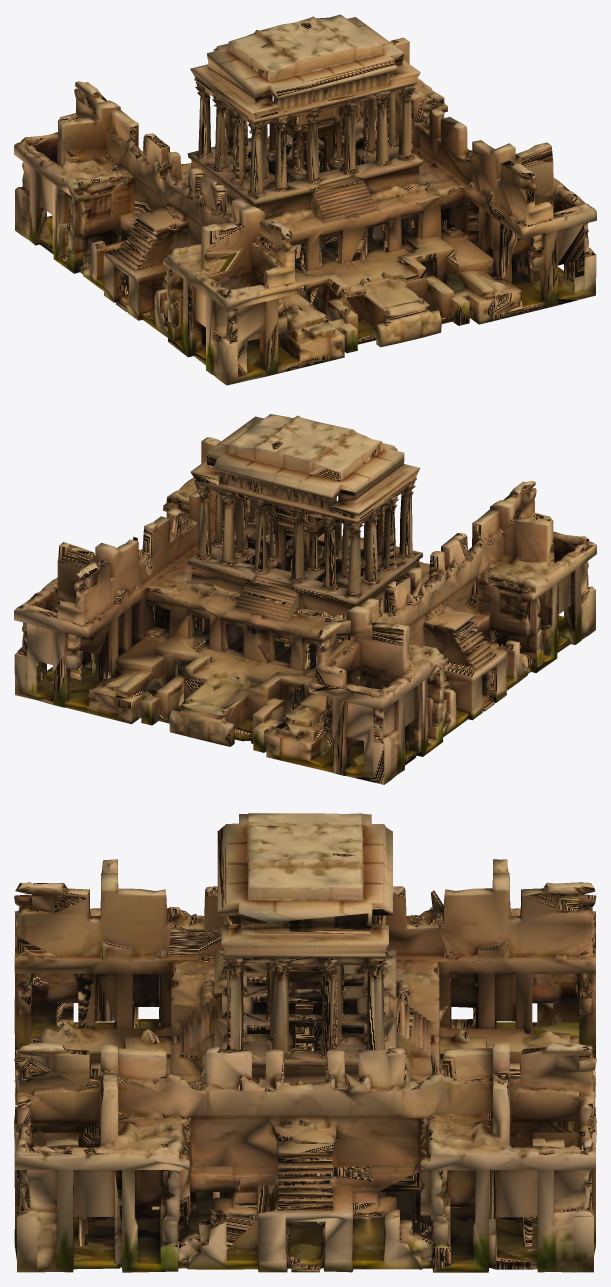
File: A_very_large_ancient.glb
3 renders of one model, top to bottom at view 1: azimuth 30°, elevation 25°; view 2: azimuth 150°, elevation 25°; view 3: azimuth 270°, elevation 25°, orthographic. The views are drawn at different scales.
Visible parts, largest first — view 1: A_very_large_ancient; view 2: A_very_large_ancient; view 3: A_very_large_ancient.
Part boxes in pixels (x1=…): A_very_large_ancient: x1=14, y1=14, x2=596, y2=385; A_very_large_ancient: x1=14, y1=414, x2=596, y2=784; A_very_large_ancient: x1=14, y1=813, x2=596, y2=1272.
Bounding box in the file's own units: 1.9 × 1.11 × 1.9.
Materials: 1 (1 with a texture image).
